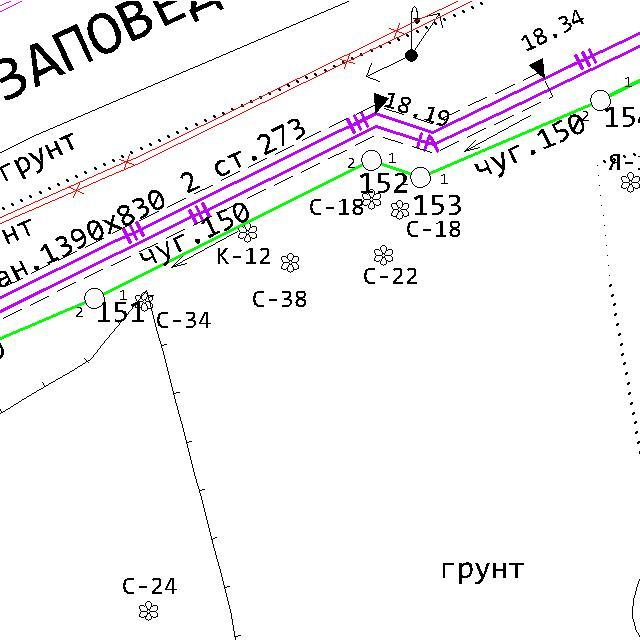bushes: (236, 220, 259, 244), (279, 251, 301, 275), (372, 244, 396, 266), (137, 600, 160, 622), (361, 189, 382, 211), (134, 291, 155, 312), (390, 198, 410, 220)
mark: (372, 91, 390, 115), (528, 58, 547, 80)
well: (81, 285, 108, 311), (408, 164, 433, 191), (359, 146, 384, 173), (588, 88, 612, 112)
